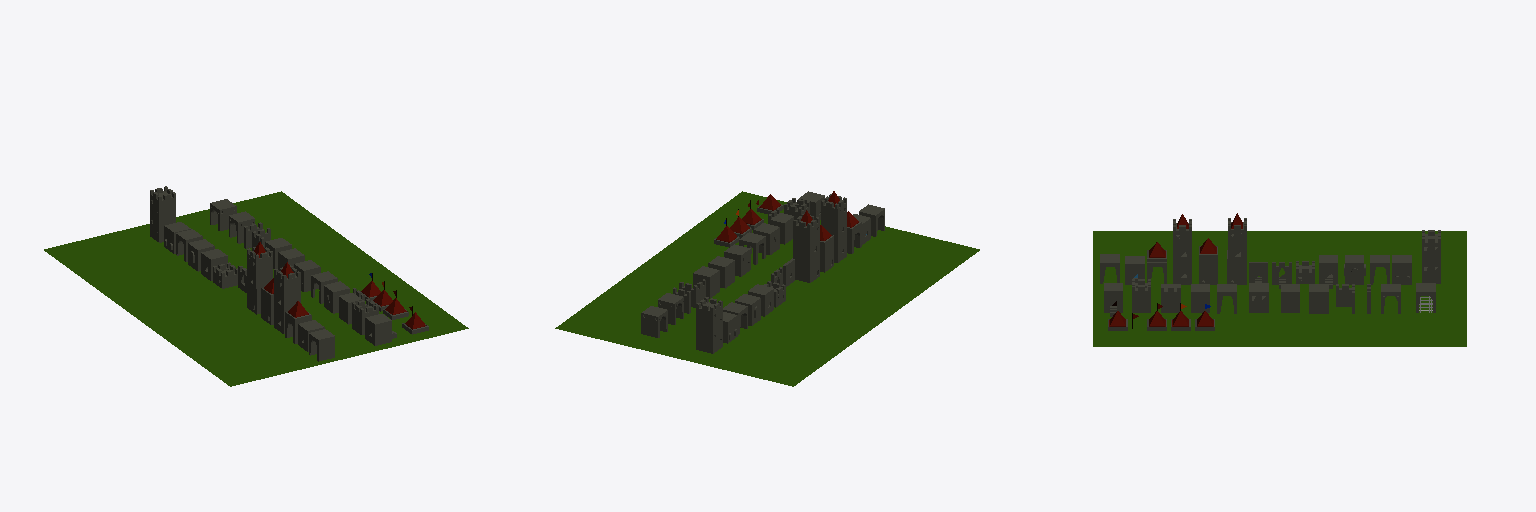
File: Tiles.obj
The picture shows the model from 3 angles: view 1: azimuth 30°, elevation 25°; view 2: azimuth 150°, elevation 25°; view 3: azimuth 270°, elevation 25°; orthographic projection.
Visible parts, largest first — view 1: Plane.002_Plane.008, Cube.017_Cube.024, Cube.019_Cube.060, Cube.025_Cube.002, Cube.002_Cube.004, Cube.030_Cube.018, Cube.028_Cube.014, Cube.029_Cube.044, Cube.032_Cube.027, Cube.033_Cube.020, Cube.010_Cube.017, Cube.013_Cube.053; view 2: Plane.002_Plane.008, Cube.017_Cube.024, Cube.025_Cube.002, Cube.019_Cube.060, Cube.029_Cube.044, Cube.021_Cube.000, Cube.035_Cube.026, Cube.016_Cube.029, Cube.006_Cube.051, Cube.064_Cube.007, Cube.024_Cube.001, Cube.033_Cube.020; view 3: Plane.002_Plane.008, Cube.017_Cube.024, Cube.019_Cube.060, Cube.025_Cube.002, Cube.016_Cube.029, Cube.032_Cube.027, Cube.021_Cube.000, Cube.035_Cube.026, Cube.002_Cube.004, Cube.010_Cube.017, Cube.064_Cube.007, Cube.024_Cube.001 (+3 smaller).
Boxes of the visible parts, box(x1,y1,x2,y2) form: Plane.002_Plane.008: box(44, 191, 468, 386); Cube.017_Cube.024: box(247, 242, 272, 314); Cube.019_Cube.060: box(274, 262, 300, 333); Cube.025_Cube.002: box(150, 186, 175, 242); Cube.002_Cube.004: box(365, 314, 396, 345); Cube.030_Cube.018: box(309, 329, 334, 361); Cube.028_Cube.014: box(285, 301, 311, 343); Cube.029_Cube.044: box(210, 199, 236, 230); Cube.032_Cube.027: box(352, 299, 378, 334); Cube.033_Cube.020: box(324, 281, 349, 313); Cube.010_Cube.017: box(201, 249, 227, 280); Cube.013_Cube.053: box(213, 262, 237, 288); Plane.002_Plane.008: box(555, 191, 979, 386); Cube.017_Cube.024: box(793, 210, 819, 282); Cube.025_Cube.002: box(696, 297, 722, 353); Cube.019_Cube.060: box(821, 191, 846, 262); Cube.029_Cube.044: box(641, 306, 667, 337); Cube.021_Cube.000: box(724, 244, 750, 276); Cube.035_Cube.026: box(693, 266, 719, 298); Cube.016_Cube.029: box(820, 225, 833, 272); Cube.006_Cube.051: box(658, 293, 683, 324); Cube.064_Cube.007: box(768, 208, 793, 244); Cube.024_Cube.001: box(708, 256, 734, 288); Cube.033_Cube.020: box(753, 223, 779, 254); Plane.002_Plane.008: box(1093, 231, 1466, 346); Cube.017_Cube.024: box(1227, 213, 1246, 284); Cube.019_Cube.060: box(1173, 214, 1191, 284); Cube.025_Cube.002: box(1422, 230, 1440, 283); Cube.016_Cube.029: box(1199, 238, 1217, 284); Cube.032_Cube.027: box(1132, 279, 1150, 312); Cube.021_Cube.000: box(1249, 283, 1268, 312); Cube.035_Cube.026: box(1309, 284, 1328, 313); Cube.002_Cube.004: box(1104, 283, 1122, 316); Cube.010_Cube.017: box(1319, 255, 1337, 288); Cube.064_Cube.007: box(1161, 284, 1180, 312); Cube.024_Cube.001: box(1281, 284, 1299, 312).
Bounding box in the file's own units: 12.38 × 3.41 × 16.83.